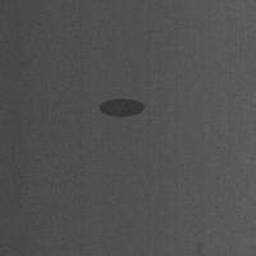Oil spot: (99, 97, 146, 119)
